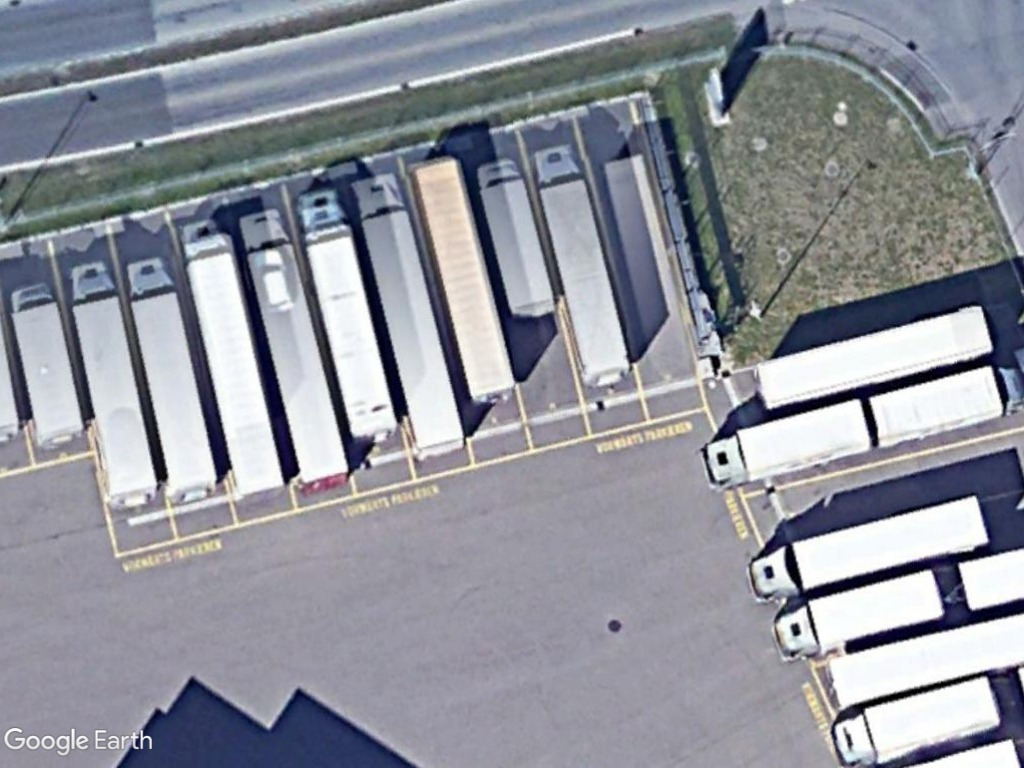longvehicle: (406, 150, 519, 404), (749, 300, 997, 415)
truck: (348, 167, 474, 465), (236, 197, 351, 493), (181, 209, 289, 501), (746, 489, 996, 614), (295, 180, 401, 448), (530, 137, 637, 386), (122, 247, 219, 505), (65, 257, 163, 507), (693, 395, 881, 497), (766, 565, 951, 663), (829, 673, 1004, 768), (860, 360, 1024, 457), (472, 151, 562, 325), (7, 278, 87, 445)
